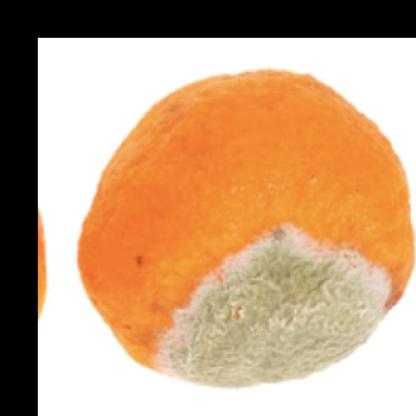rotten: (80, 71, 416, 388)
